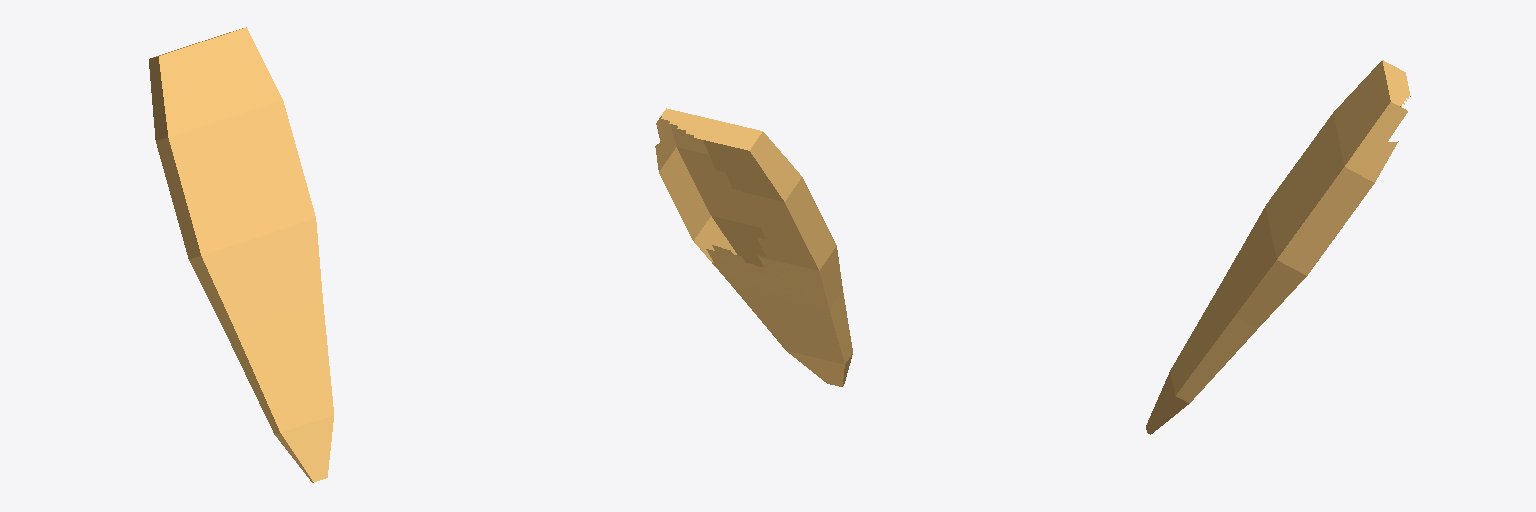
3 renders of one model, left to right at view 1: azimuth 30°, elevation 25°; view 2: azimuth 150°, elevation 25°; view 3: azimuth 270°, elevation 25°, orthographic.
Parts seen in each view (by area): view 1: aletaizquierdapingu_Material.001; view 2: aletaizquierdapingu_Material.001; view 3: aletaizquierdapingu_Material.001.
Boxes of the visible parts, box(x1,y1,x2,y2) form: aletaizquierdapingu_Material.001: box(149, 27, 333, 482); aletaizquierdapingu_Material.001: box(655, 108, 852, 386); aletaizquierdapingu_Material.001: box(1146, 60, 1410, 434).
Size of the model in its own units: 0.4557 by 1.25 by 0.8582.
1 materials, 1 textured.